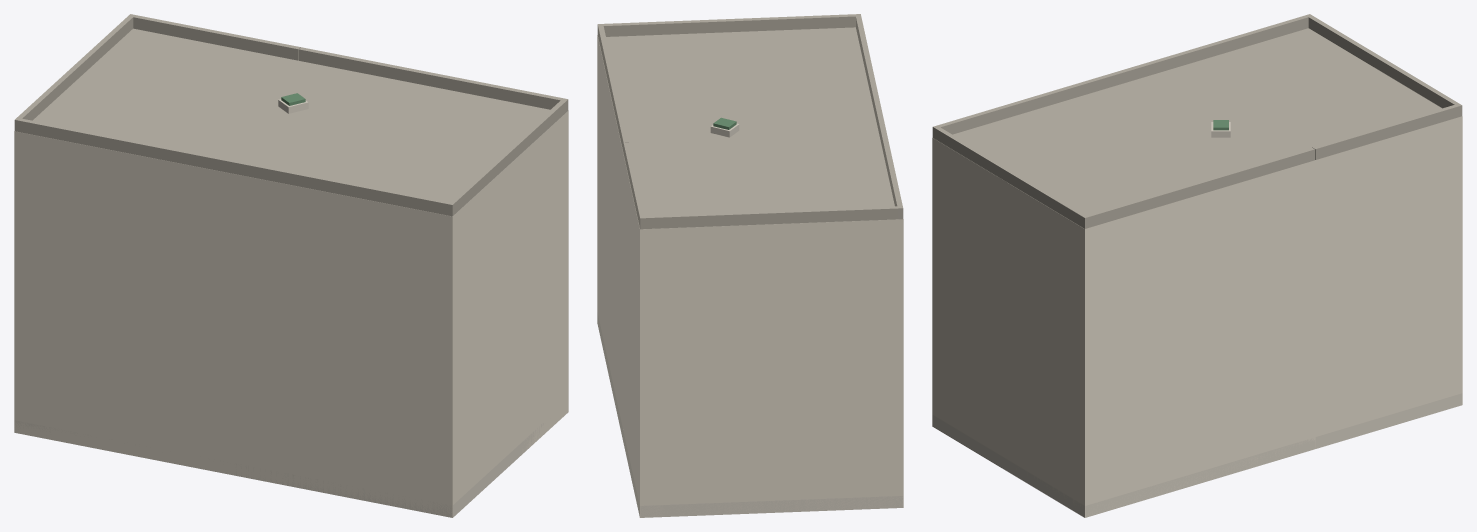
File: cop_equipamento_especial_03__way_488128347.fbx
3 views of the same model, side by side, from view 1: azimuth 30°, elevation 25°; view 2: azimuth 150°, elevation 25°; view 3: azimuth 270°, elevation 25° (orthographic). The views are drawn at different scales.
Visible parts, largest first — view 1: cop_equipamento_especial_03__way_488128347_wall, cop_equipamento_especial_03__way_488128347_roof, cop_equipamento_especial_03__way_488128347_stone; view 2: cop_equipamento_especial_03__way_488128347_wall, cop_equipamento_especial_03__way_488128347_roof, cop_equipamento_especial_03__way_488128347_stone; view 3: cop_equipamento_especial_03__way_488128347_wall, cop_equipamento_especial_03__way_488128347_roof, cop_equipamento_especial_03__way_488128347_stone.
Part boxes in pixels (left/top/right/bottom): cop_equipamento_especial_03__way_488128347_wall: left=14, top=111, right=568, bottom=517; cop_equipamento_especial_03__way_488128347_roof: left=14, top=14, right=568, bottom=216; cop_equipamento_especial_03__way_488128347_stone: left=14, top=99, right=567, bottom=517; cop_equipamento_especial_03__way_488128347_wall: left=597, top=35, right=903, bottom=517; cop_equipamento_especial_03__way_488128347_roof: left=597, top=14, right=903, bottom=229; cop_equipamento_especial_03__way_488128347_stone: left=597, top=123, right=903, bottom=517; cop_equipamento_especial_03__way_488128347_wall: left=932, top=116, right=1462, bottom=517; cop_equipamento_especial_03__way_488128347_roof: left=932, top=14, right=1462, bottom=228; cop_equipamento_especial_03__way_488128347_stone: left=932, top=122, right=1462, bottom=517.
Size of the model in its own units: 2733 by 1869 by 2996.
